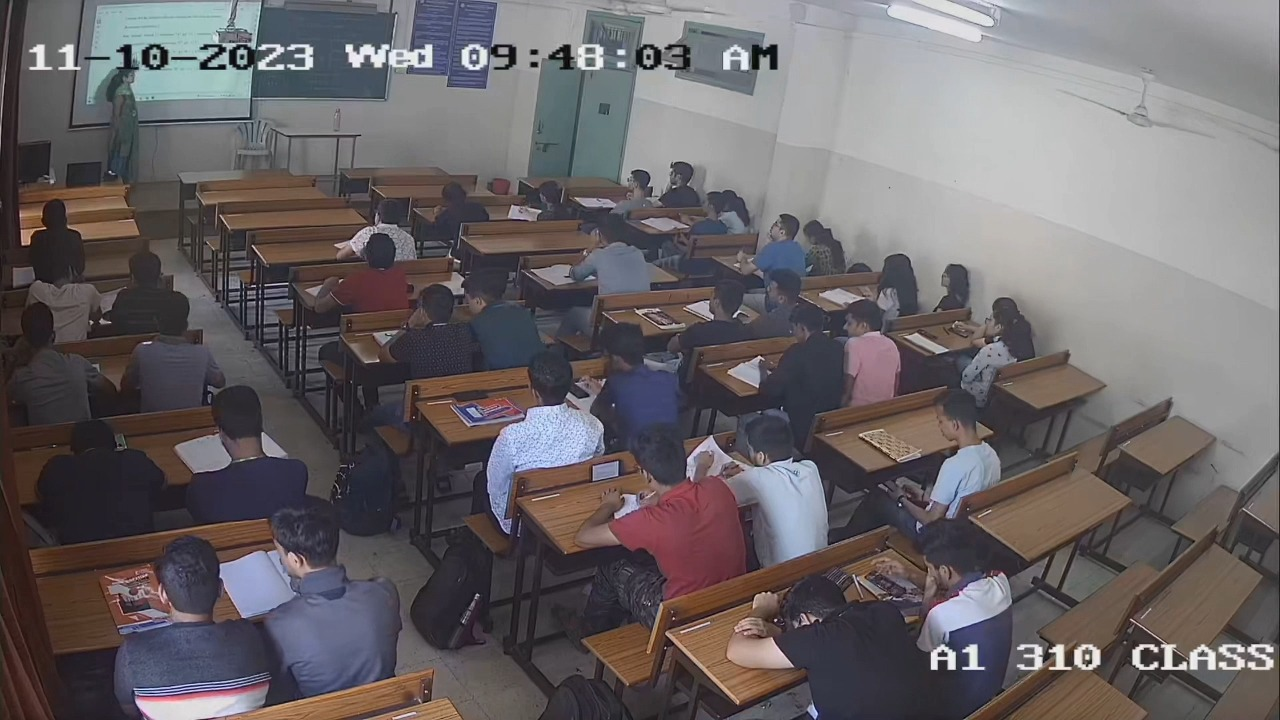cell-phones: (585, 457, 628, 484), (450, 386, 491, 404), (569, 380, 593, 400), (916, 327, 940, 341), (948, 325, 968, 340), (856, 284, 875, 298)
person: (588, 427, 749, 589), (478, 349, 610, 462), (963, 302, 1031, 368), (874, 253, 920, 317)
